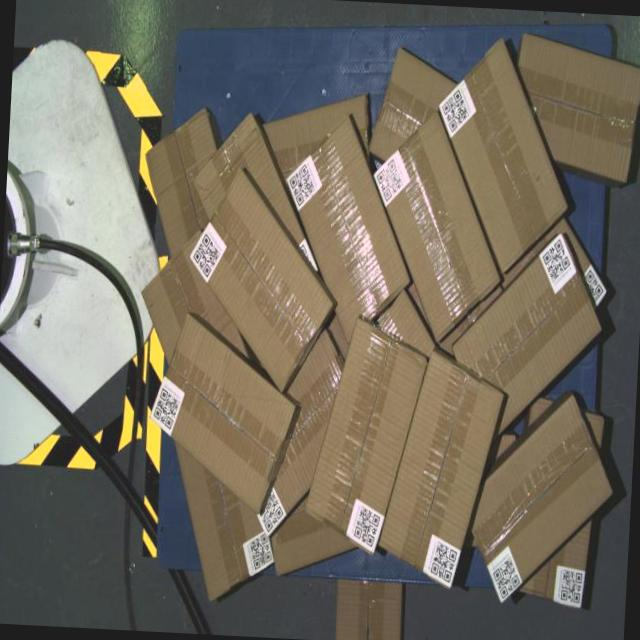box: (183, 165, 340, 395), (430, 34, 577, 278), (446, 226, 608, 447), (365, 107, 510, 346), (465, 389, 618, 610), (278, 111, 419, 347), (144, 311, 300, 516), (377, 347, 507, 592), (303, 314, 429, 558)
